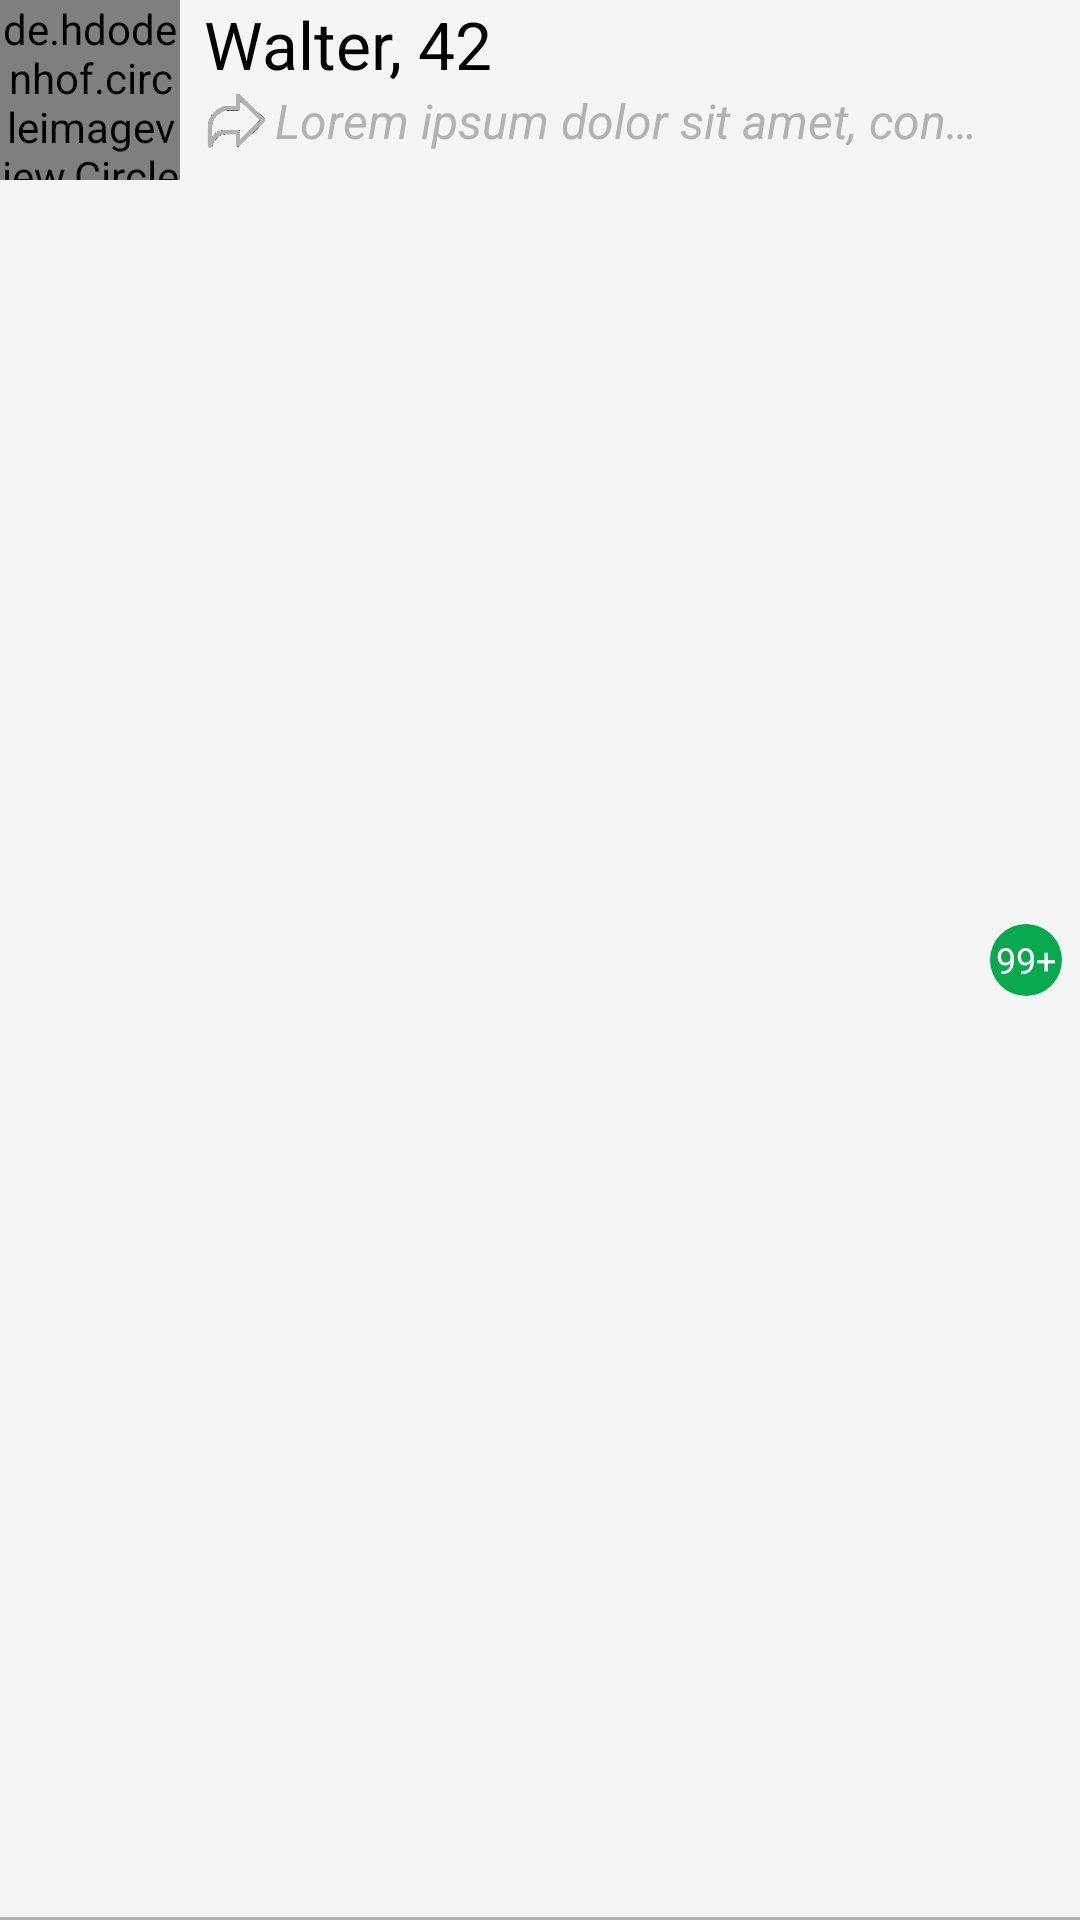

Icon bounding boxes for this 1080x1920 phone screenshot, format (x1, y1, x2, y2):
sent message: (208, 94, 265, 148)
